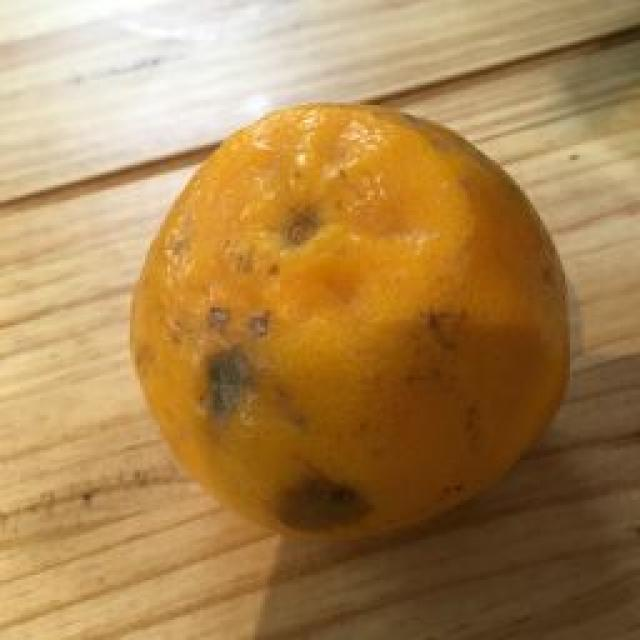Bad_Orange: (132, 105, 569, 537)
